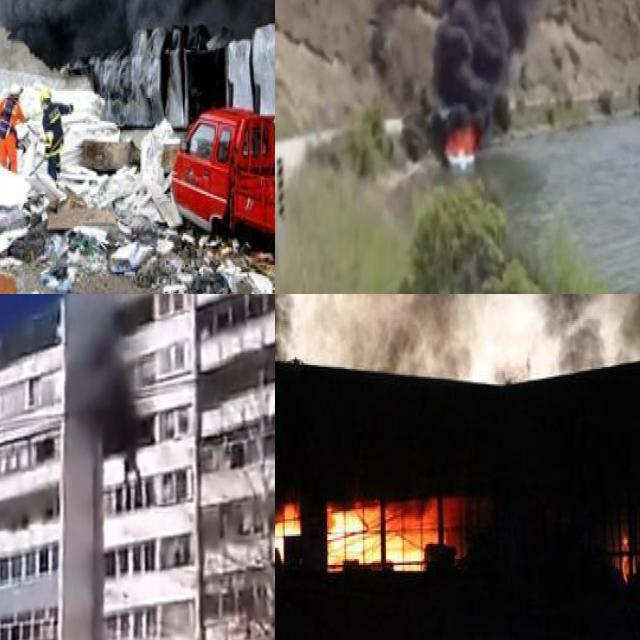fire: (326, 494, 428, 571), (275, 501, 299, 563), (614, 525, 634, 582), (447, 126, 477, 161)
smoke: (275, 294, 640, 373), (0, 0, 275, 73), (396, 0, 553, 118), (61, 294, 143, 445)
